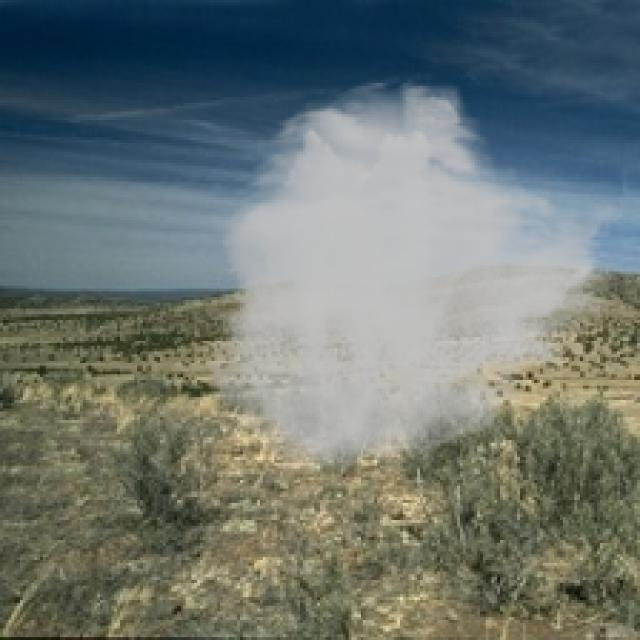Smoke: (200, 77, 626, 477)
